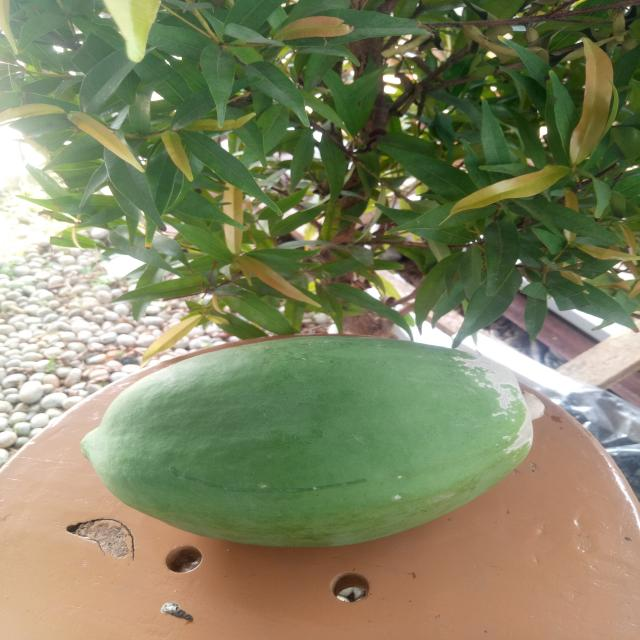Pepaya unrippen: (72, 332, 551, 552)
